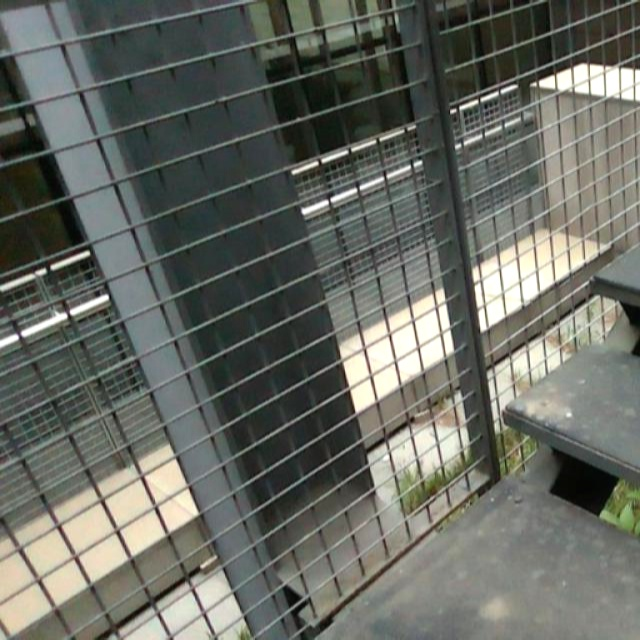stair: (516, 271, 640, 608)
